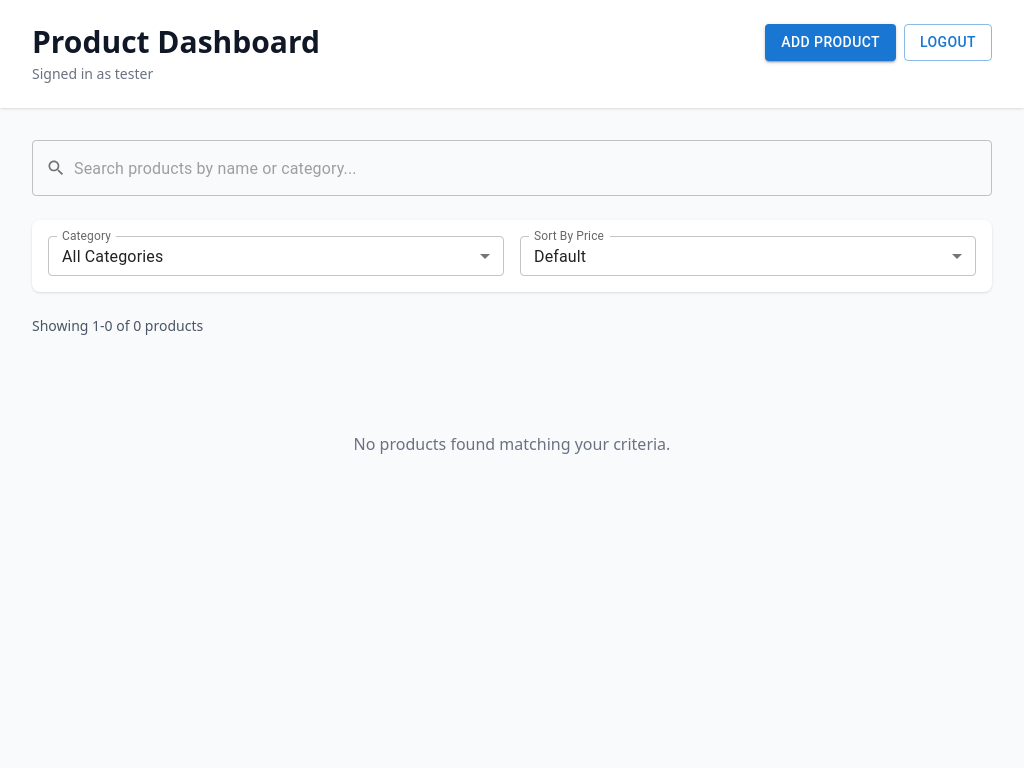
Home Page › opens add product dialog
Click the button "Add Product": coordinates (831, 42) 765,24 -> 896,60
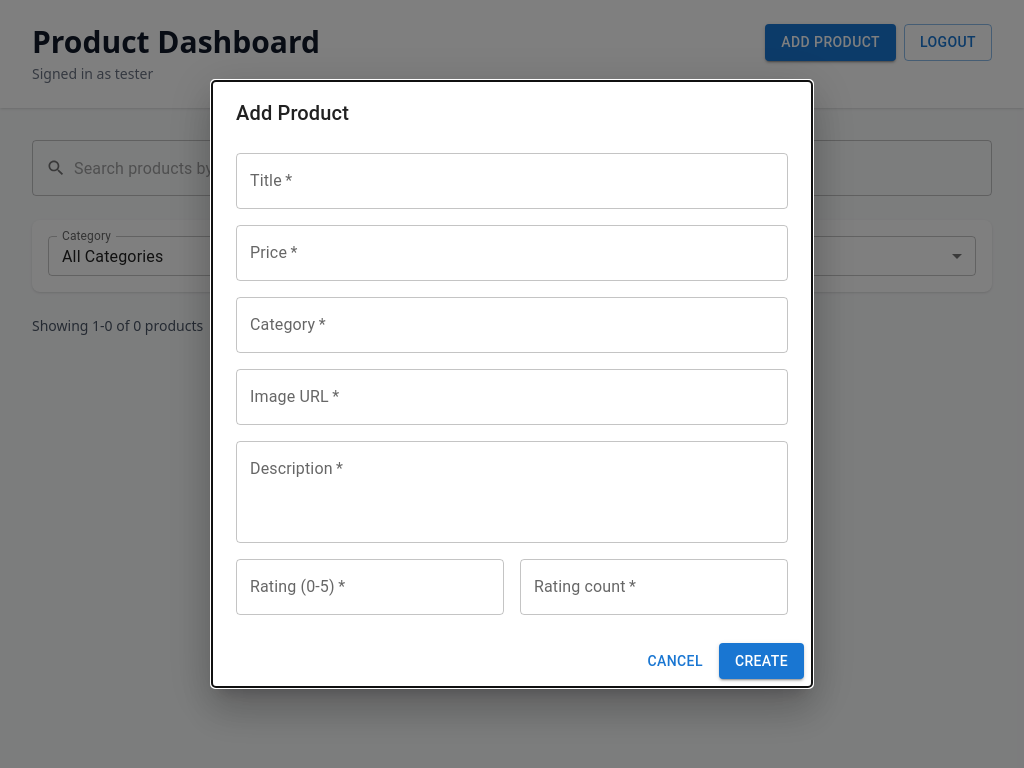
Now the heading "Add Product" is shown, box 236,101 -> 349,125
Now the button "Create" is shown, box 719,643 -> 804,679
